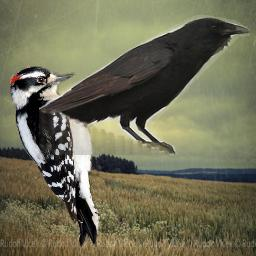Crow: (39, 15, 250, 155)
Woodpecker: (10, 66, 102, 247)
